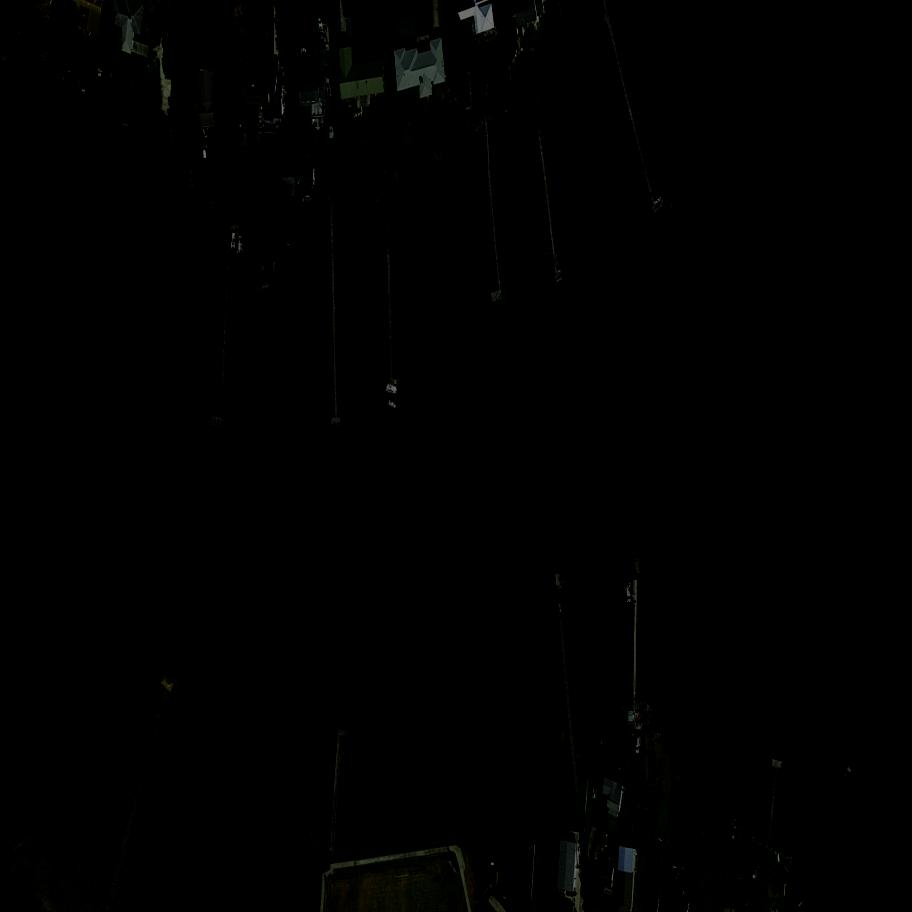ship: (625, 581, 637, 605), (640, 193, 654, 212), (386, 384, 401, 399), (386, 398, 401, 412), (326, 77, 334, 99), (730, 826, 740, 843), (230, 233, 237, 252), (238, 237, 244, 255), (302, 48, 304, 60)
small-vehicle: (321, 29, 330, 49), (634, 737, 642, 756), (345, 22, 351, 39), (317, 32, 323, 45)
